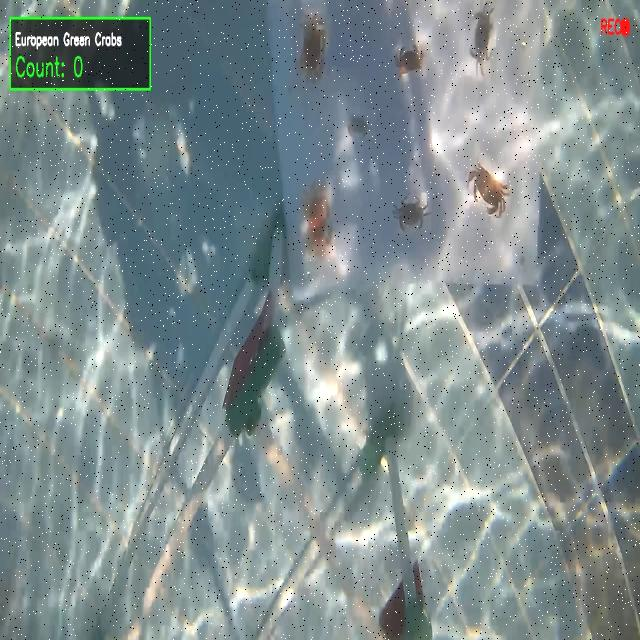European_Green_Crab: (465, 0, 499, 88), (389, 190, 428, 235), (339, 102, 369, 146)
